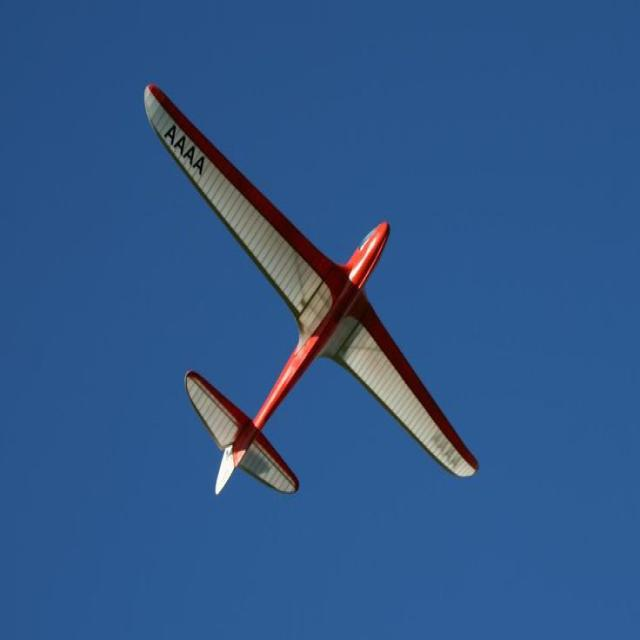iha: (142, 76, 481, 501)
